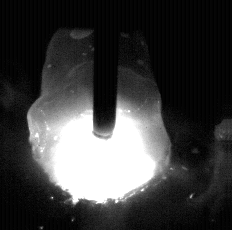arame: (94, 0, 118, 139)
poca: (29, 0, 172, 230)
